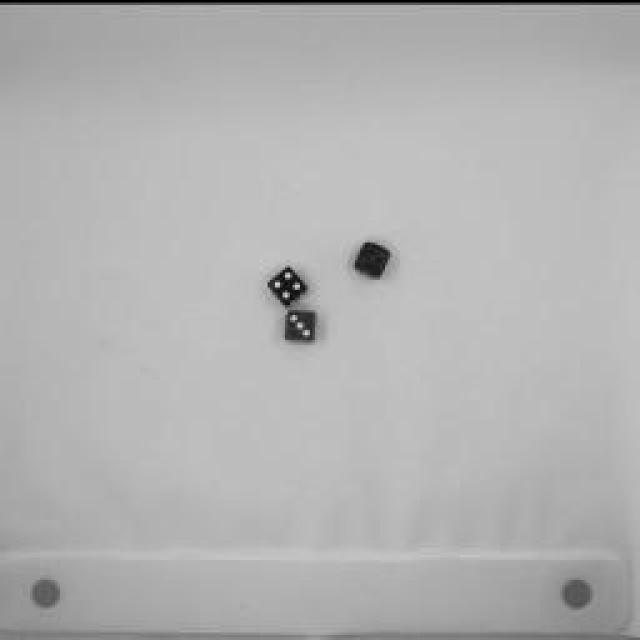dice_3: (278, 299, 328, 349), (349, 231, 396, 281)
dice_4: (264, 260, 311, 308)
